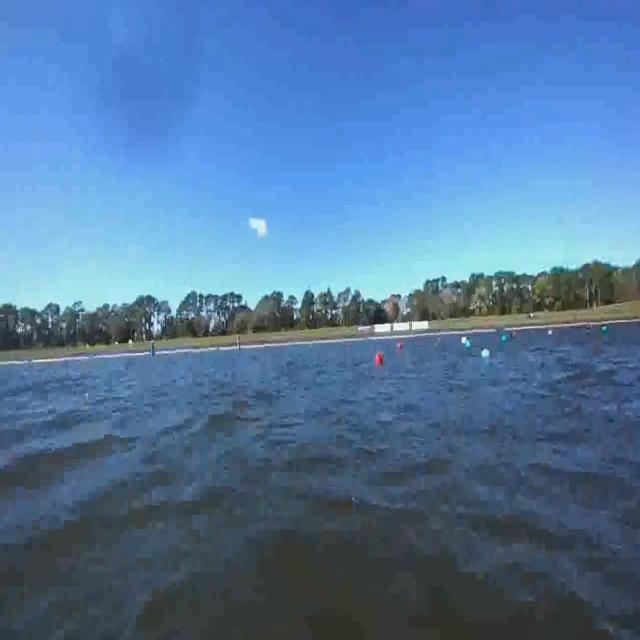green-buoy: (481, 345, 491, 362), (466, 339, 472, 350), (501, 335, 509, 343), (601, 325, 608, 334)
red-buoy: (377, 352, 385, 365), (397, 338, 404, 349)
